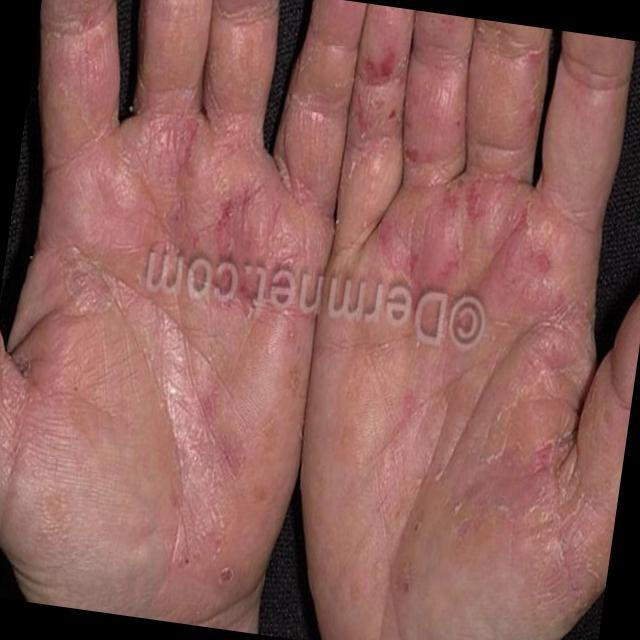Eczema: (370, 17, 587, 520), (76, 90, 298, 541)
